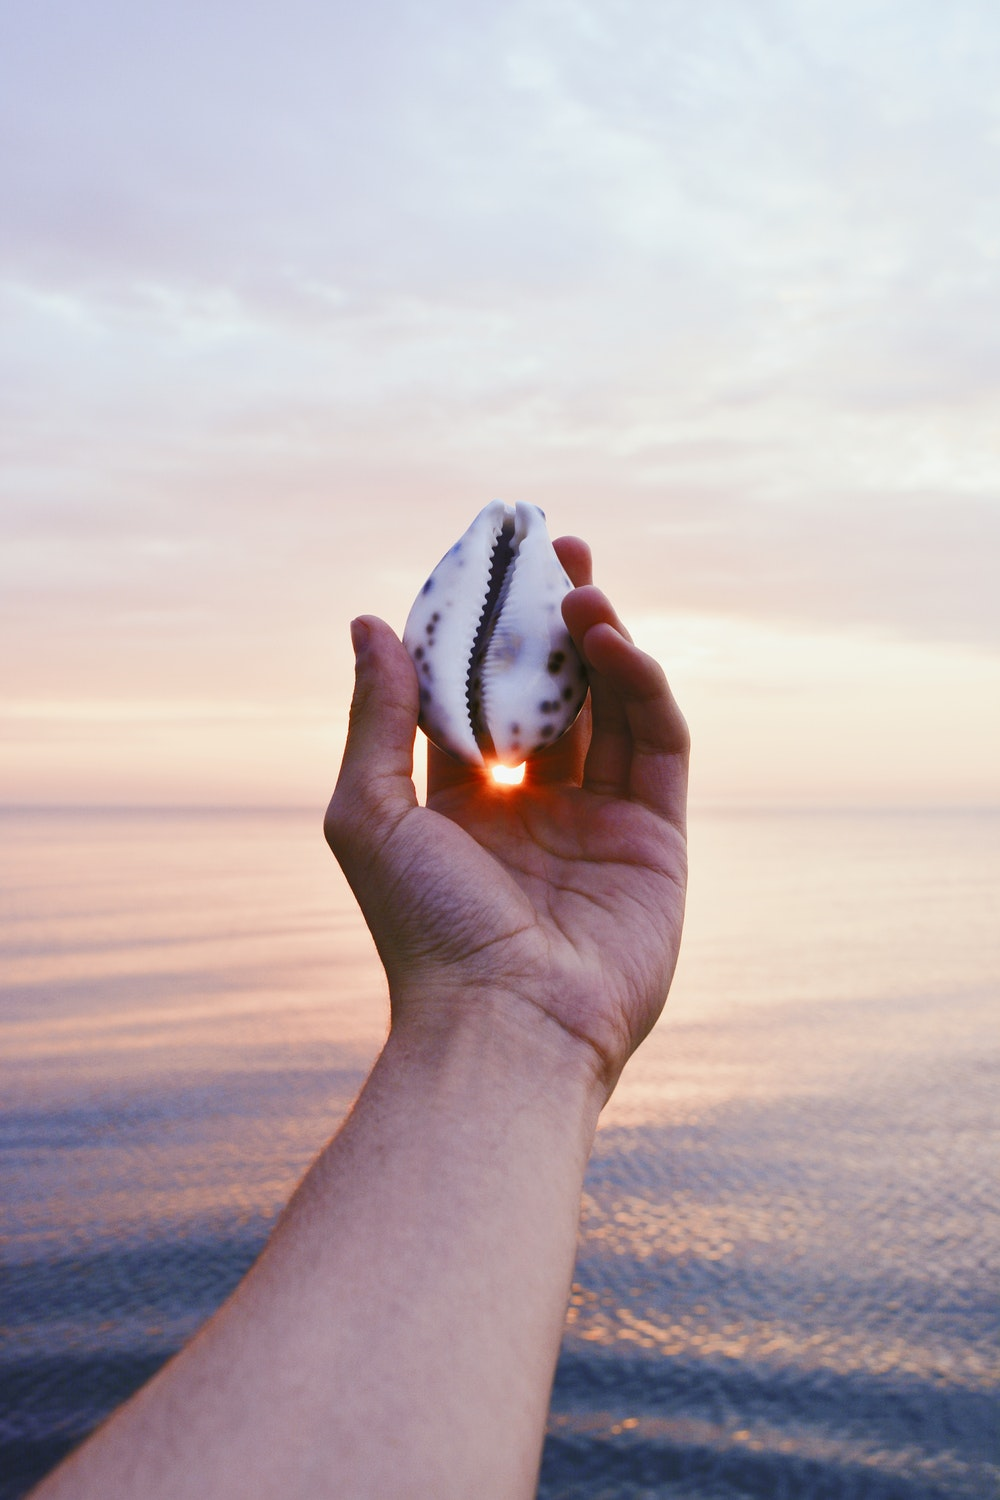palm: (400, 783, 758, 1031)
